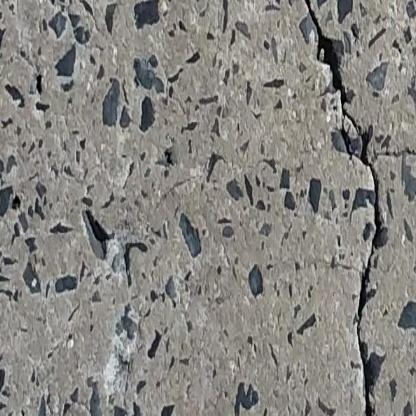Cracks: (301, 0, 392, 416)
